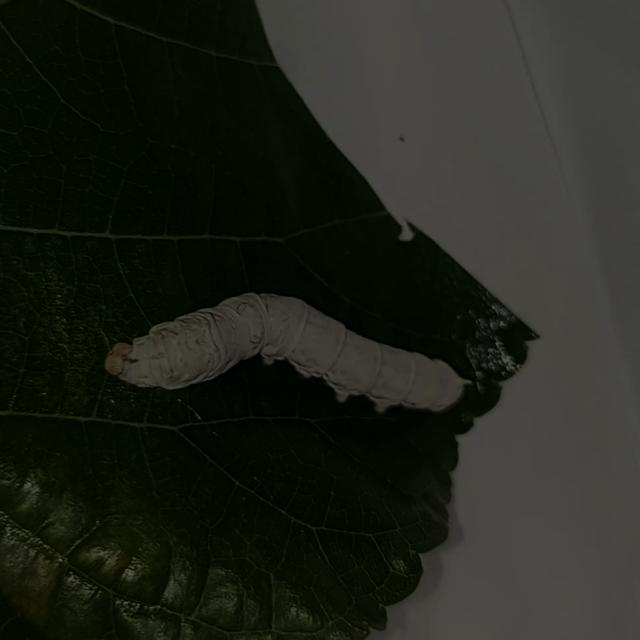Healthy: (94, 274, 474, 423)
